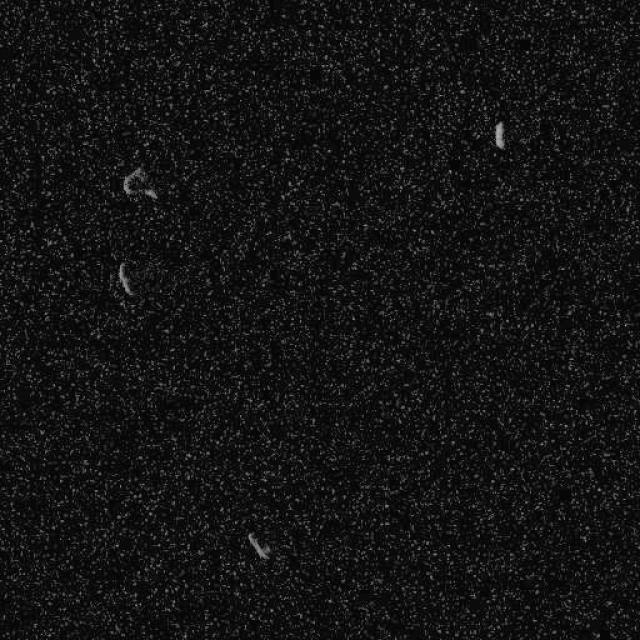D2: (121, 165, 158, 201), (246, 530, 272, 560), (116, 260, 135, 296), (492, 120, 507, 149)
